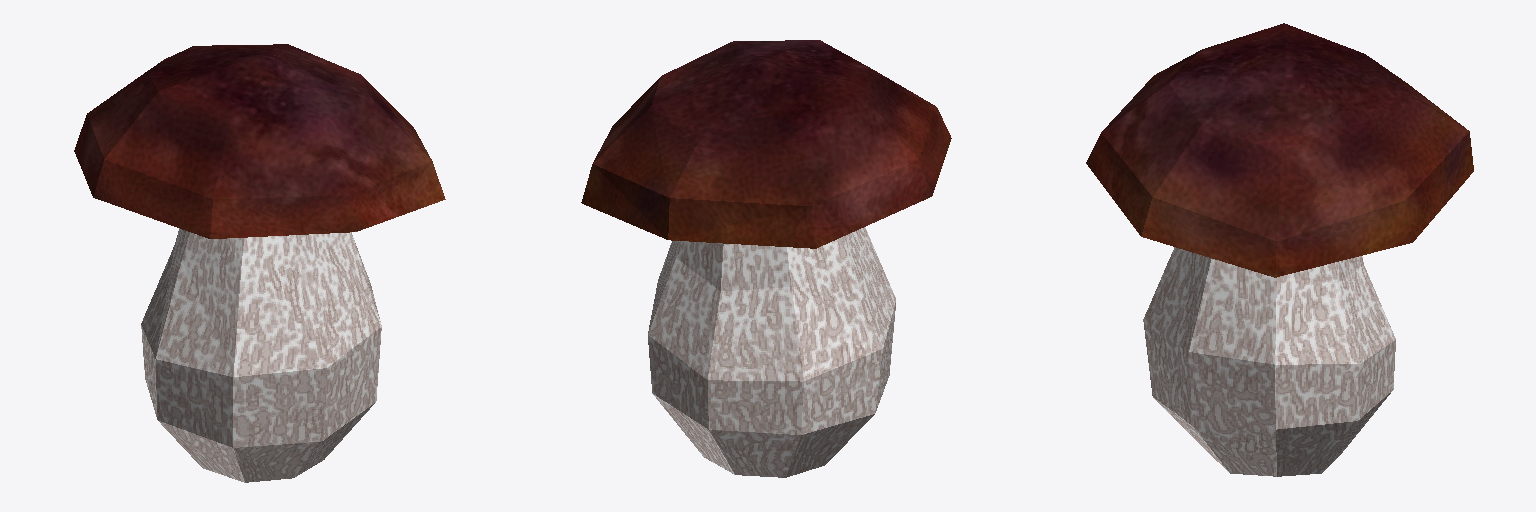
The picture shows the model from 3 angles: view 1: azimuth 30°, elevation 25°; view 2: azimuth 150°, elevation 25°; view 3: azimuth 270°, elevation 25°; orthographic projection.
Parts seen in each view (by area): view 1: boletus_low; view 2: boletus_low; view 3: boletus_low.
Part boxes in pixels (bbox=[...]): boletus_low: bbox=[74, 44, 445, 482]; boletus_low: bbox=[581, 40, 951, 477]; boletus_low: bbox=[1086, 23, 1473, 476].
Bounding box in the file's own units: 0.8348 × 0.9623 × 0.8579.
1 materials, 1 textured.